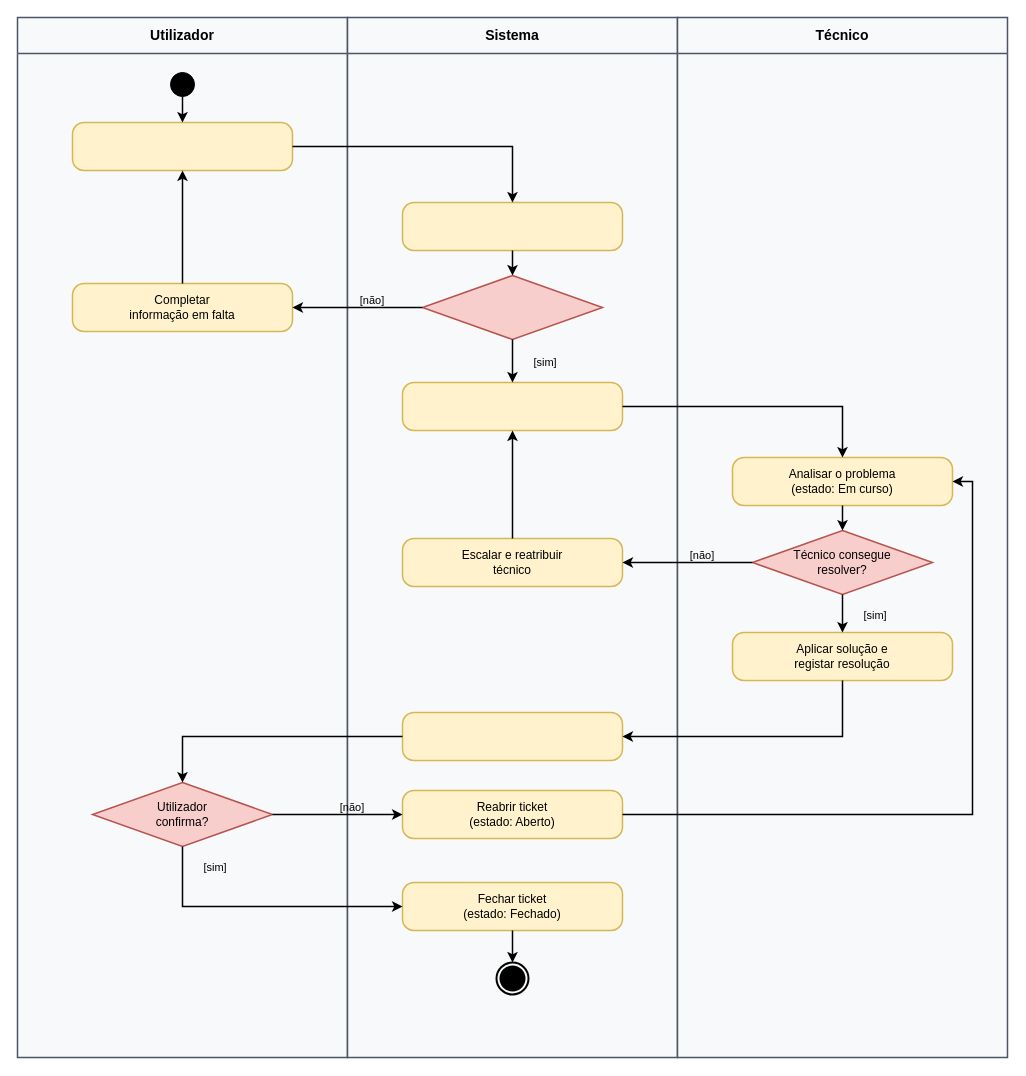
The diagram is 1026 pixels wide and 1076 high, and some of its shapes have lost their labels. Each missing label, with the centre of its shape:
Abrir ticket (título, descrição, categoria): the point at 182,146
Atribuir técnico e definir prioridade: the point at 512,406
Dados completos?: the point at 512,307
Notificar utilizador (estado: Resolvido): the point at 512,736
Validar dados e registar ticket (Aberto): the point at 512,226
